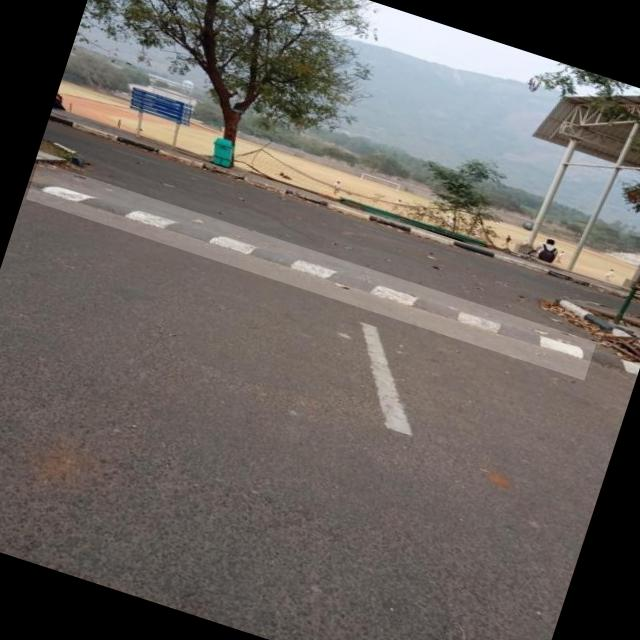bump: (26, 162, 596, 380)
